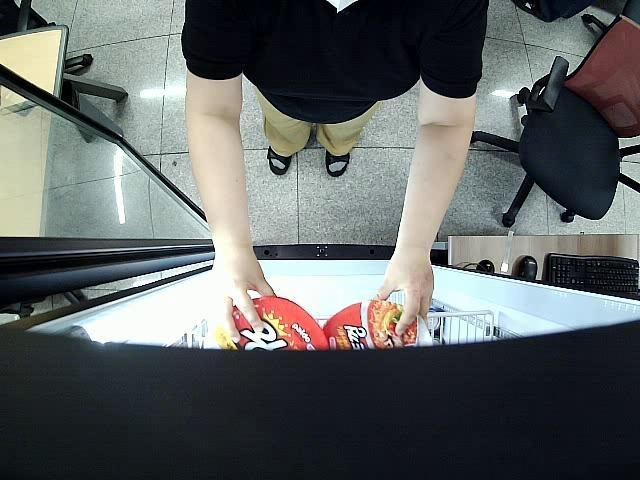10_wangTtukkeong: (216, 295, 328, 352), (322, 297, 433, 350)
